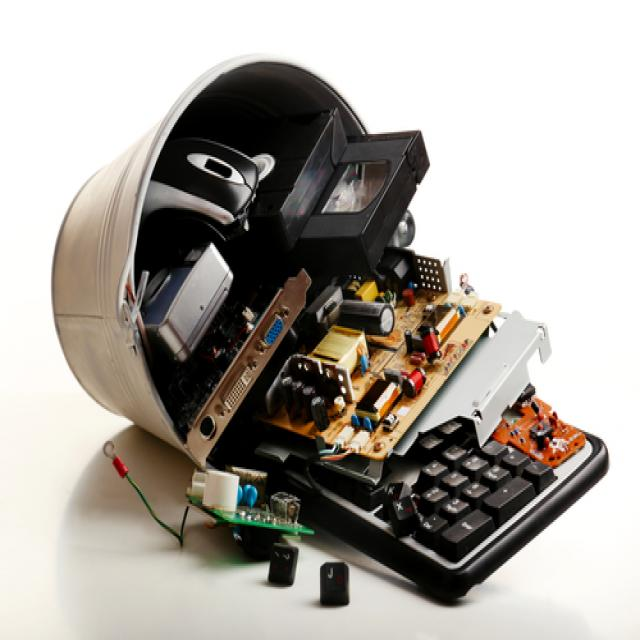plastic: (314, 419, 603, 592), (283, 110, 446, 299)
